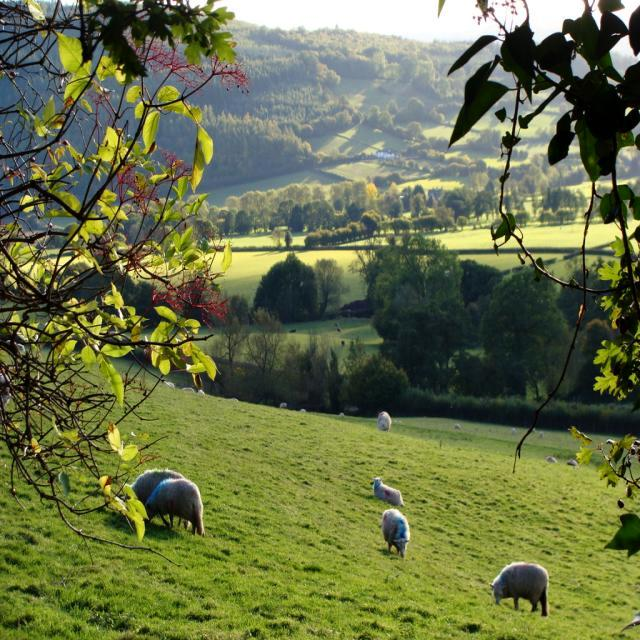sheep: (145, 479, 204, 536), (126, 469, 184, 525), (490, 563, 546, 612), (381, 508, 408, 557), (373, 477, 404, 505)
